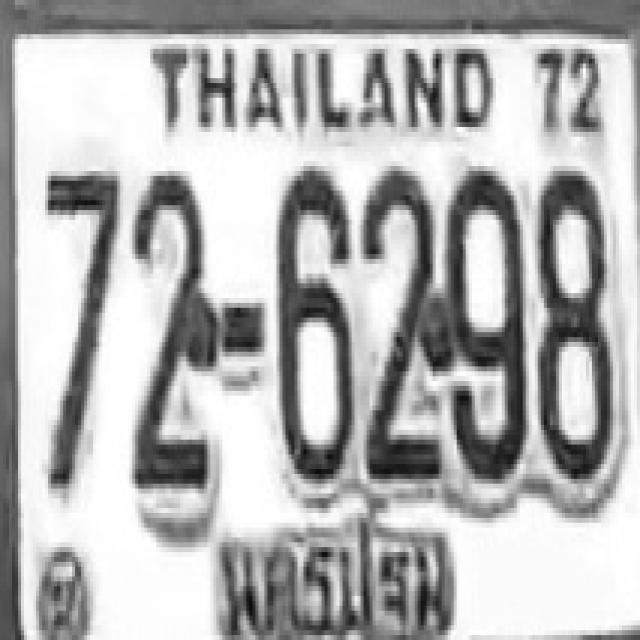2: (130, 181, 220, 493), (131, 171, 215, 474), (364, 166, 444, 484)
6: (275, 166, 353, 484)
7: (42, 166, 120, 489), (42, 166, 120, 386)
8: (534, 166, 612, 494)
9: (444, 169, 524, 481)
NakhonPathom: (205, 503, 452, 640)
